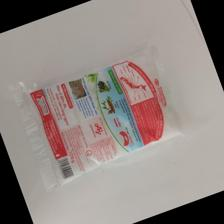Ajinomoto: (25, 51, 189, 187)
